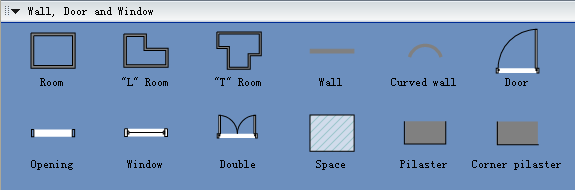door: (492, 27, 547, 77), (213, 110, 262, 144)
wall: (310, 48, 353, 55)
window: (125, 127, 169, 136)
